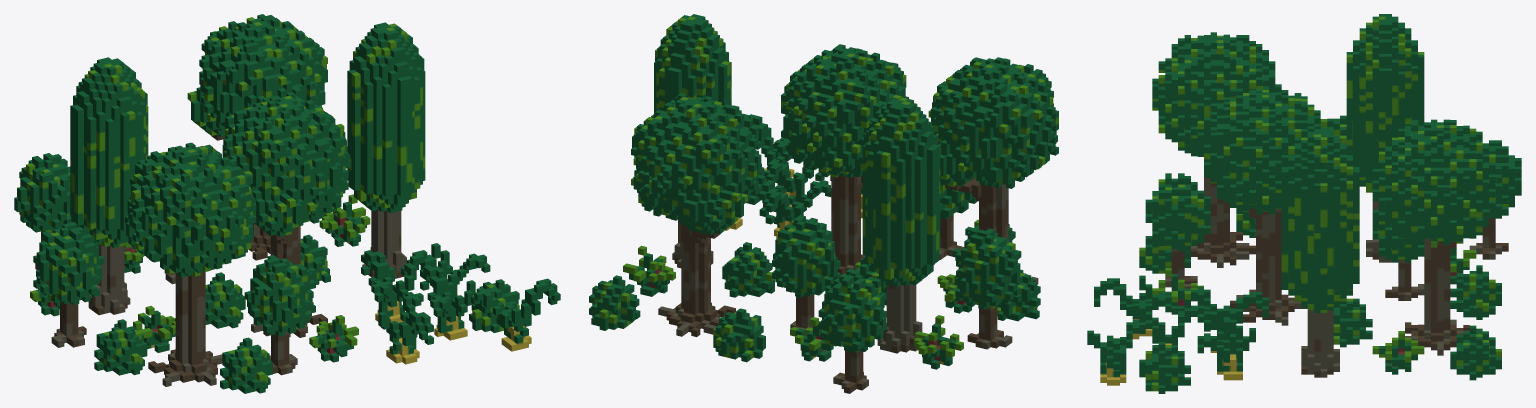
The model's file is trees_10_overtile.glb.
3 renders of one model, left to right at view 1: azimuth 30°, elevation 25°; view 2: azimuth 150°, elevation 25°; view 3: azimuth 270°, elevation 25°, orthographic. The views are drawn at different scales.
Parts seen in each view (by area): view 1: trees_10_overtile; view 2: trees_10_overtile; view 3: trees_10_overtile.
Part boxes in pixels (bbox=[...]): trees_10_overtile: bbox=[14, 14, 560, 393]; trees_10_overtile: bbox=[589, 14, 1058, 393]; trees_10_overtile: bbox=[1087, 14, 1521, 393].
Bounding box in the file's own units: 6.9 × 4 × 6.7.
1 material, 1 textured.
